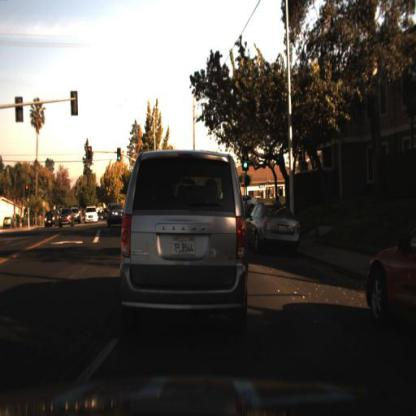car: (123, 148, 249, 328), (366, 215, 416, 344), (247, 202, 300, 244), (107, 197, 127, 235), (107, 200, 129, 229), (240, 188, 261, 214), (83, 203, 103, 226), (58, 210, 76, 231), (43, 209, 58, 228), (2, 213, 14, 233), (72, 208, 81, 226)
pedestrian: (271, 189, 285, 212)
trafficLight: (241, 141, 252, 177), (240, 150, 254, 175)
trafficLight-Green: (116, 145, 124, 163)
trafficLight-Red: (22, 181, 31, 199)
trafficLight-RedLeft: (87, 145, 95, 168), (23, 185, 31, 205)
